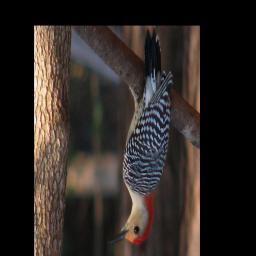Woodpecker: (106, 33, 173, 247)
